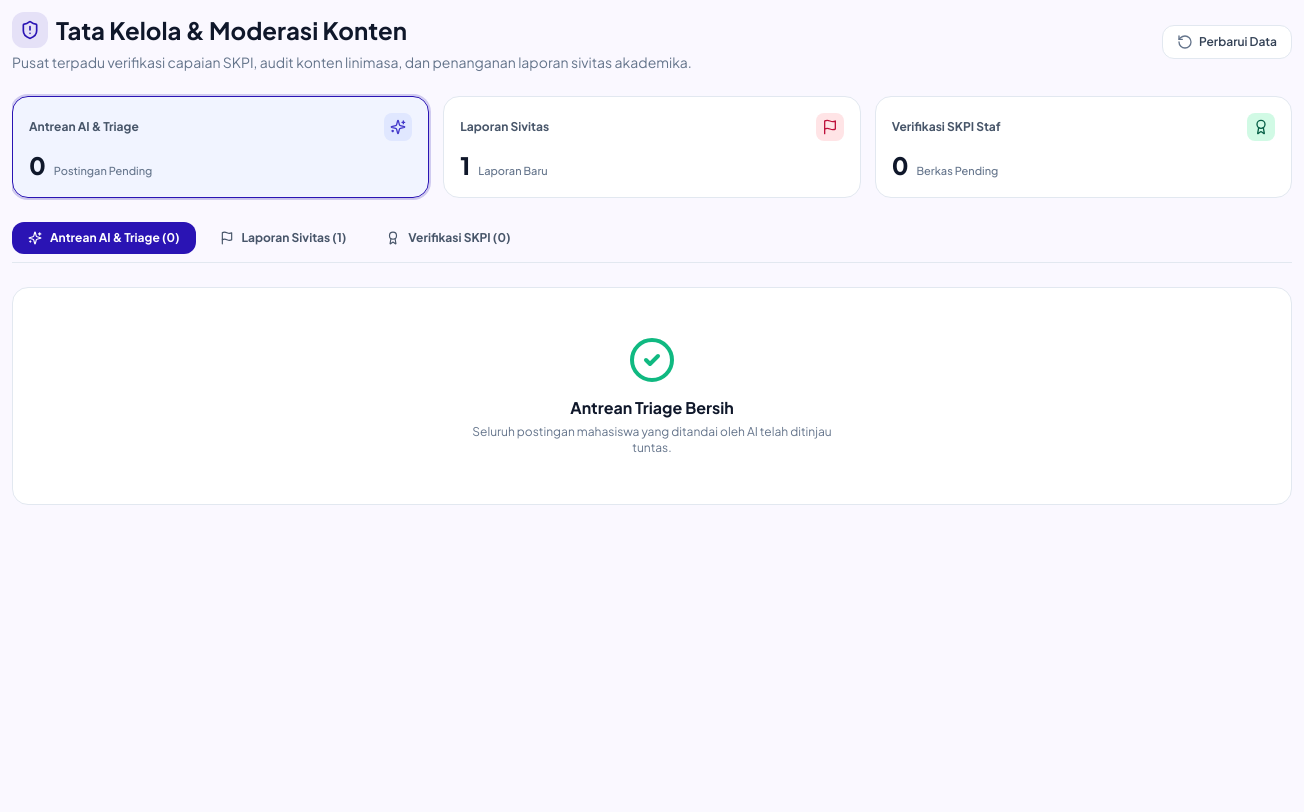
Test: M08 Moderation & Reports Frontend Tests › renders takedown banner and hides active post UI when report post is deleted
Step 1. Click the button "Laporan Sivitas (1)" → (283, 238), box [204,222,362,254]
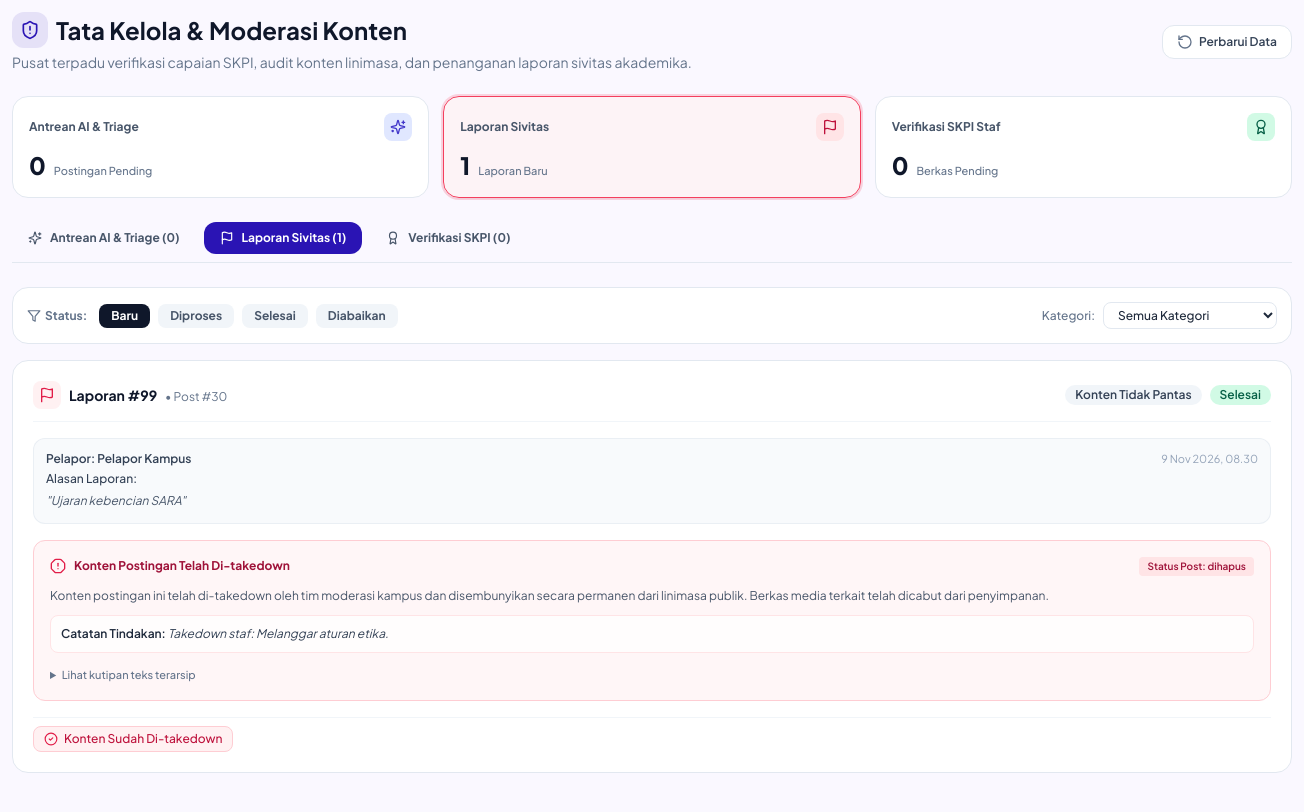
Expected: the text "Laporan #99" is shown, [69,386,157,404]
Expected: the text "Konten Postingan Telah Di-takedown" is shown, [74,558,290,574]
Expected: the text "Catatan Tindakan:" is shown, [61,626,168,641]
